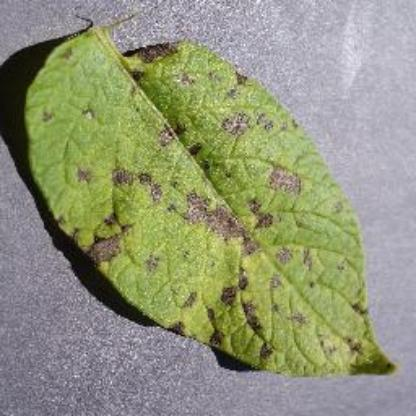Early-Blight: (20, 17, 398, 379)
